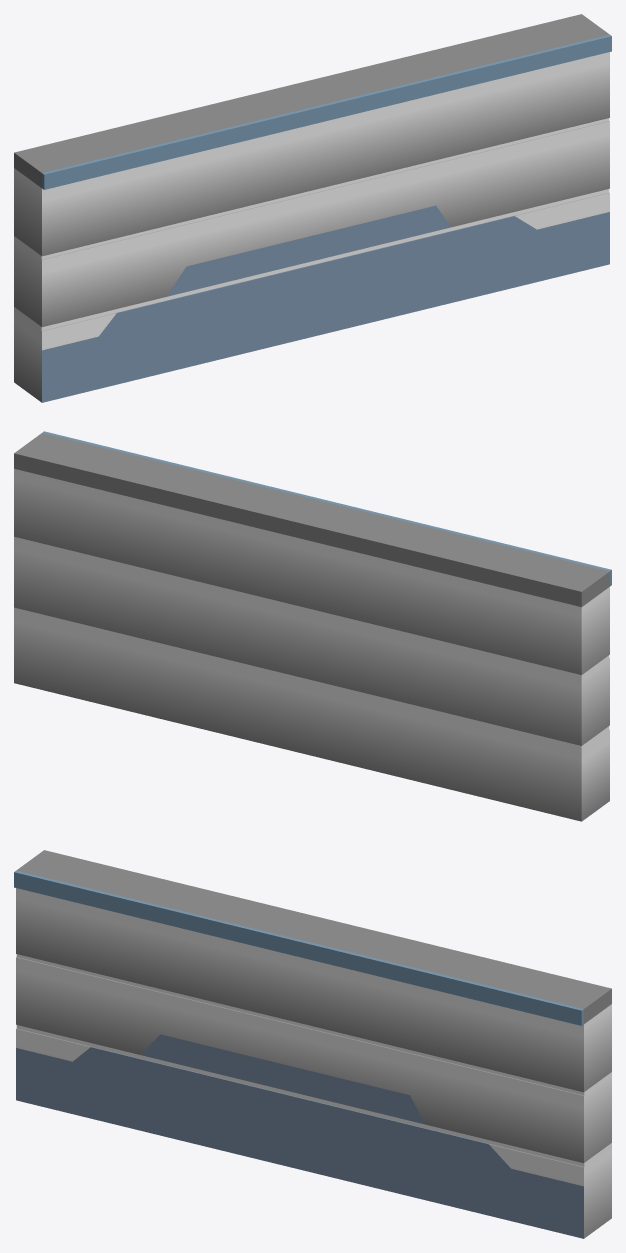
Rendered from 0_1_Wall_2.fbx.
3 renders of one model, top to bottom at view 1: azimuth 30°, elevation 25°; view 2: azimuth 150°, elevation 25°; view 3: azimuth 330°, elevation 25°, orthographic.
Parts seen in each view (by area): view 1: 0_1_Wall_2; view 2: 0_1_Wall_2; view 3: 0_1_Wall_2.
Part boxes in pixels (x1,y1,x2,y2): 0_1_Wall_2: (14,14,611,402); 0_1_Wall_2: (14,431,611,821); 0_1_Wall_2: (14,850,611,1238).
Size of the model in its own units: 1125 by 435 by 104.
